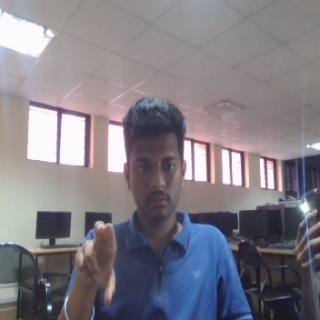No: (74, 218, 117, 309)
